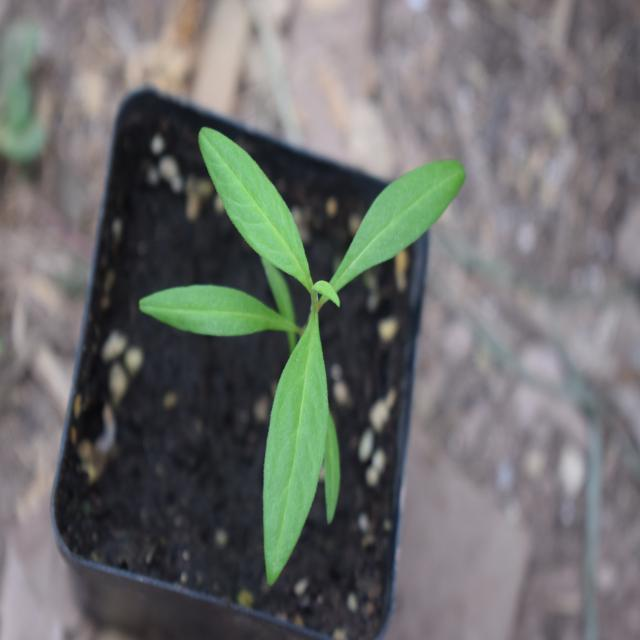white_smart_weed: (123, 96, 452, 542)
